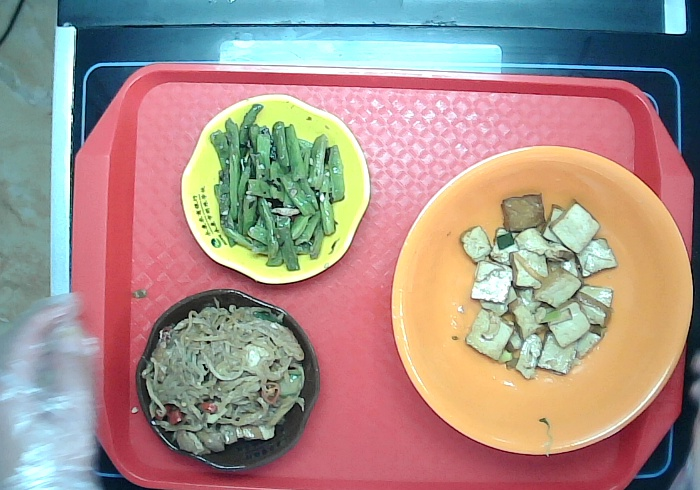YKMZ-Huang_Se_Ao_Bian_Wan: (179, 92, 371, 292)
YKMZ-Ju_Se_Tang_Wan: (384, 144, 695, 457)
YKMZ-Ka_Fei_Ao_Bian_Wan: (135, 287, 320, 473)
